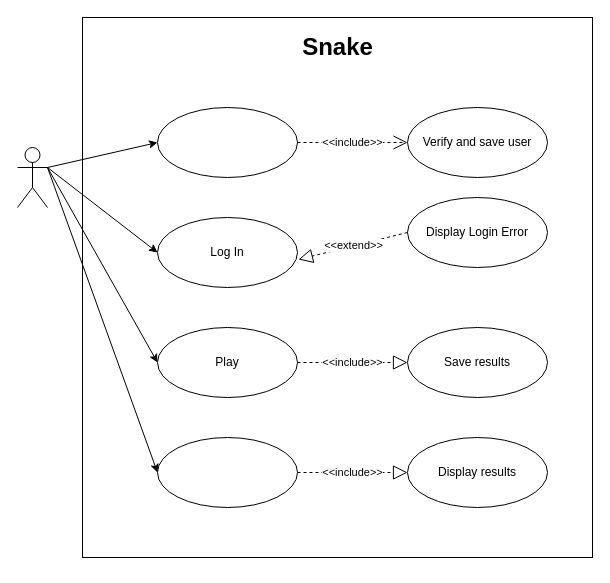
Some shapes in this 610 by 583 pixel diagram are drawn without their labels. The shapes that lost their labels are listed below. From the top down, each one's centre as x and y in pixels, then its label:
(227,142): Rregister
(32,177): User
(227,472): Check Leaderboard
